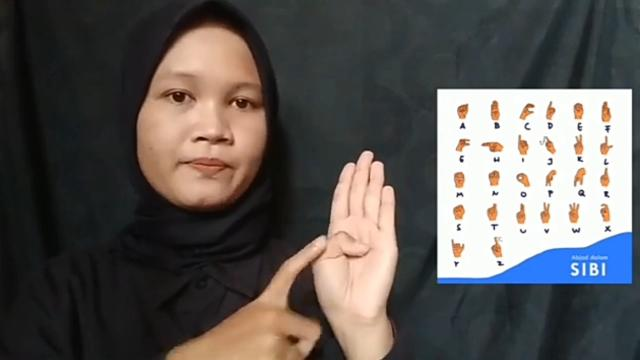B: (310, 150, 400, 324)
